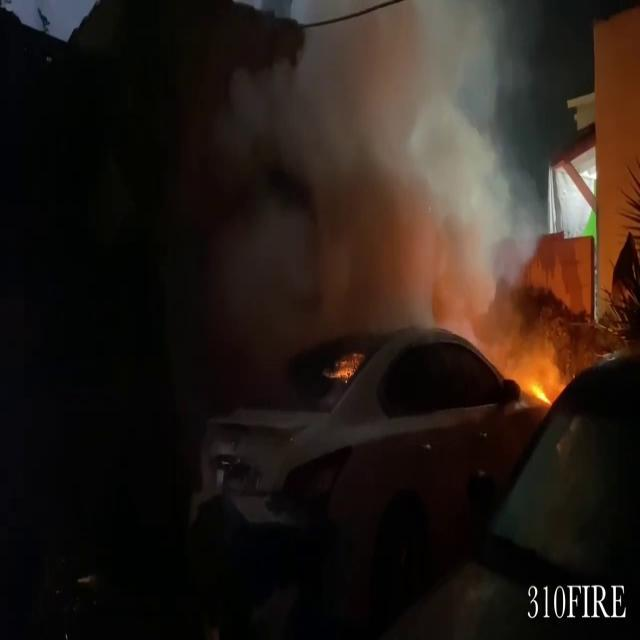Smoke: (202, 1, 559, 358)
